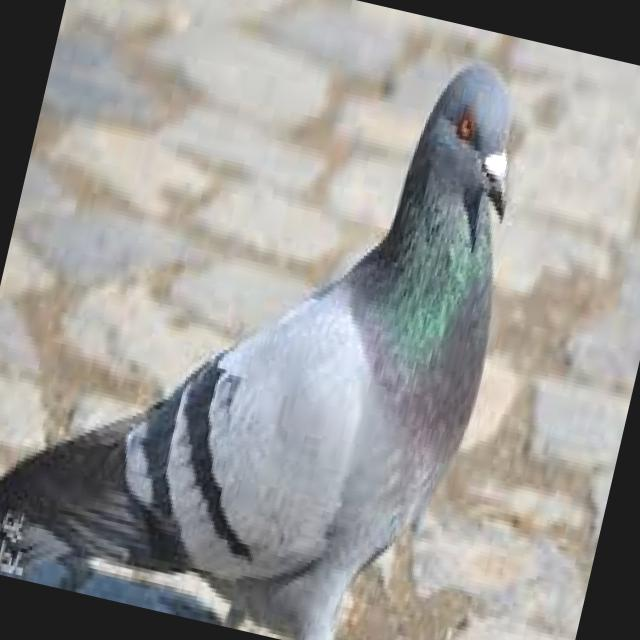bird: (0, 0, 555, 640)
